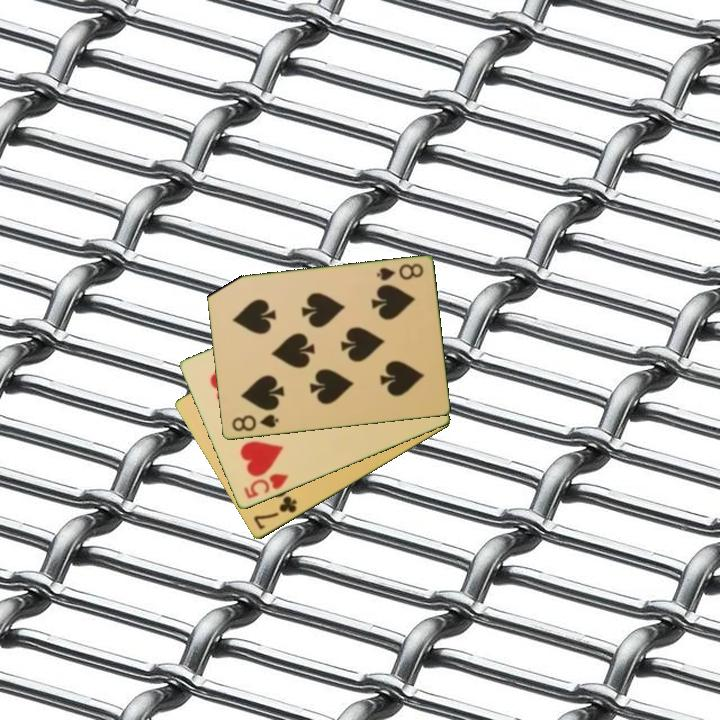5h: (240, 470, 291, 502)
7c: (250, 493, 300, 533)
8s: (373, 260, 426, 284), (228, 411, 281, 434)
